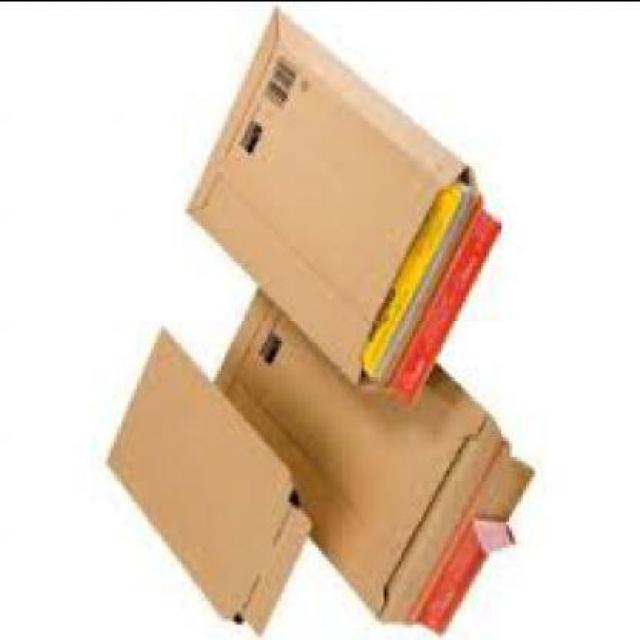box: (163, 1, 520, 414), (77, 310, 320, 633)
